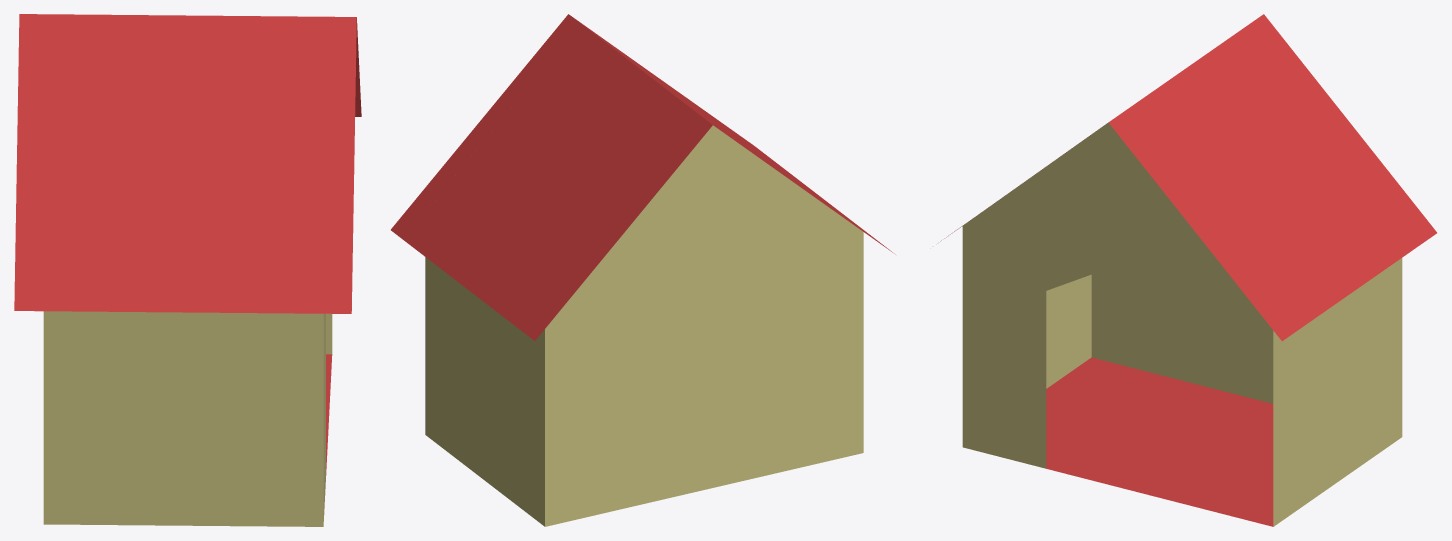
3 views of the same model, side by side, from view 1: azimuth 30°, elevation 25°; view 2: azimuth 150°, elevation 25°; view 3: azimuth 270°, elevation 25° (orthographic). The views are drawn at different scales.
Bounding box in the file's own units: 13.81 × 14.94 × 12.12.
